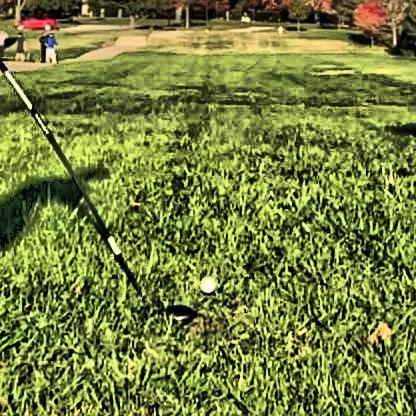golfball: (198, 273, 215, 290)
